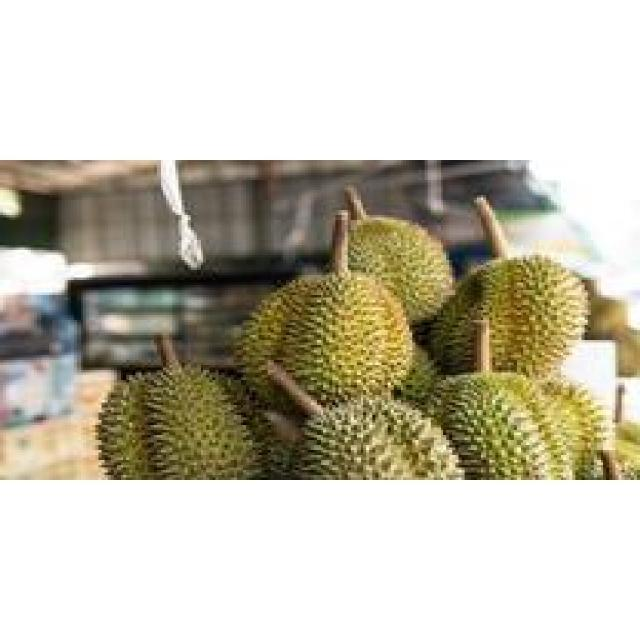fruit: (83, 348, 274, 480), (452, 242, 597, 398)
